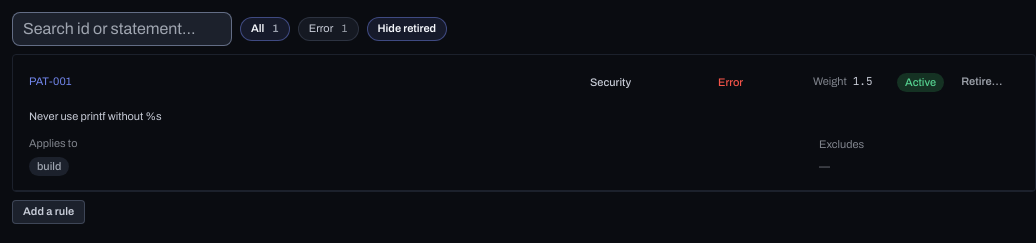
Scenario: SteeringGrid — inline cell editing › Esc reverts the editor — no commit, the original value stays
The image size is (1036, 243).
Click the button with test id "steering-cell-statement". click: (95, 116)
box: [23,104,1025,129]
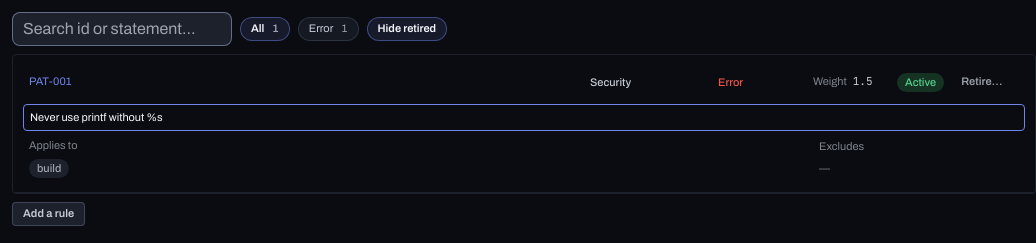
Replace the text in the field with test id "steering-cell-statement-input" with "half-typed nonsense". click: (524, 118)
box: [23,104,1025,131]
Then press Escape
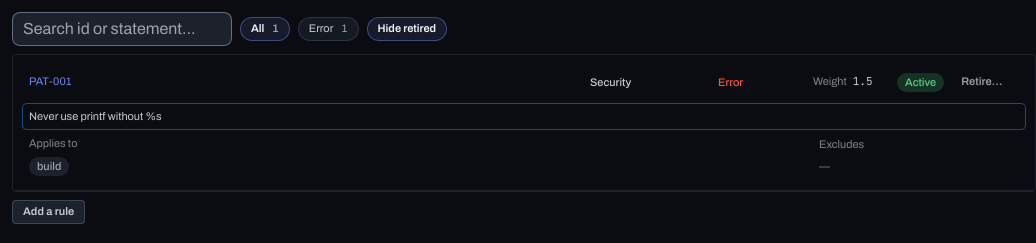
Check: the button with test id "steering-cell-statement" reads "Never use printf without %s", box [23,104,1025,129]
Check: the field with test id "steering-cell-statement-input" is gone
